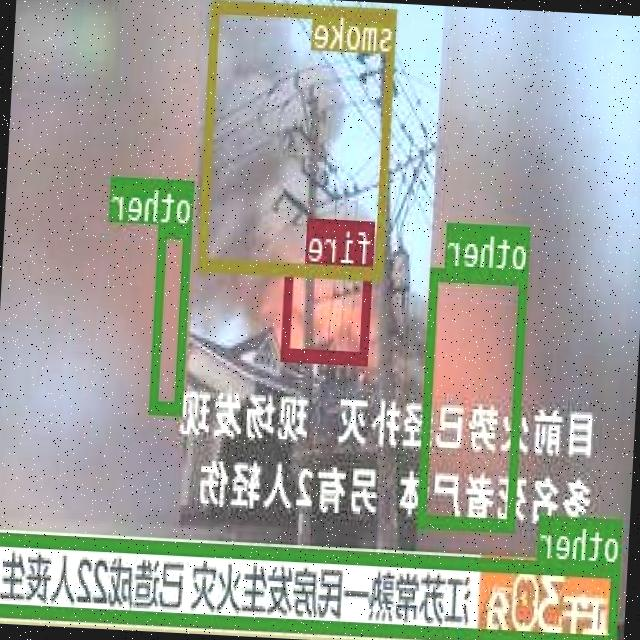fire: (284, 261, 374, 364)
smoke: (199, 0, 398, 277)
